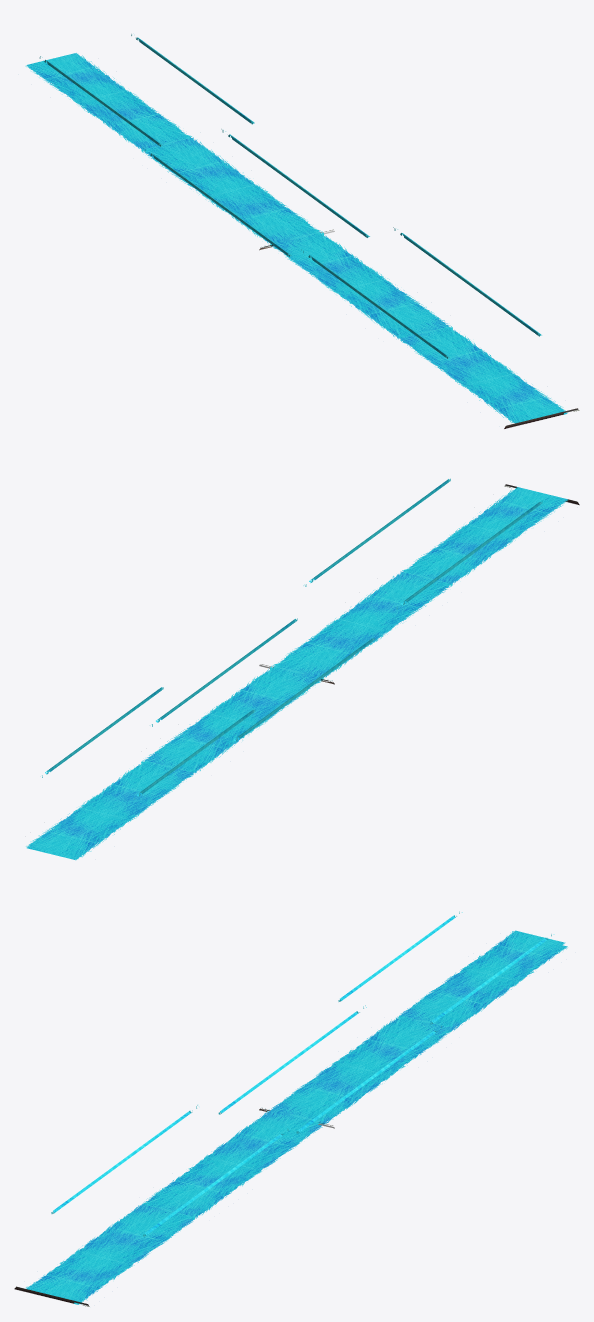
File: MemeFactory_Bridge_Art.glb
3 views of the same model, one above another, from view 1: azimuth 30°, elevation 25°; view 2: azimuth 150°, elevation 25°; view 3: azimuth 330°, elevation 25° (orthographic).
Parts seen in each view (by area): view 1: MemeFactory_Bridge_Art; view 2: MemeFactory_Bridge_Art; view 3: MemeFactory_Bridge_Art.
Boxes of the visible parts, x1,y1,x2,y2 form: MemeFactory_Bridge_Art: [25, 34, 579, 429]; MemeFactory_Bridge_Art: [26, 478, 579, 860]; MemeFactory_Bridge_Art: [14, 911, 567, 1306].
Bounding box in the file's own units: 3.69 × 1.62 × 33.29.
Materials: 1 (1 with a texture image).
